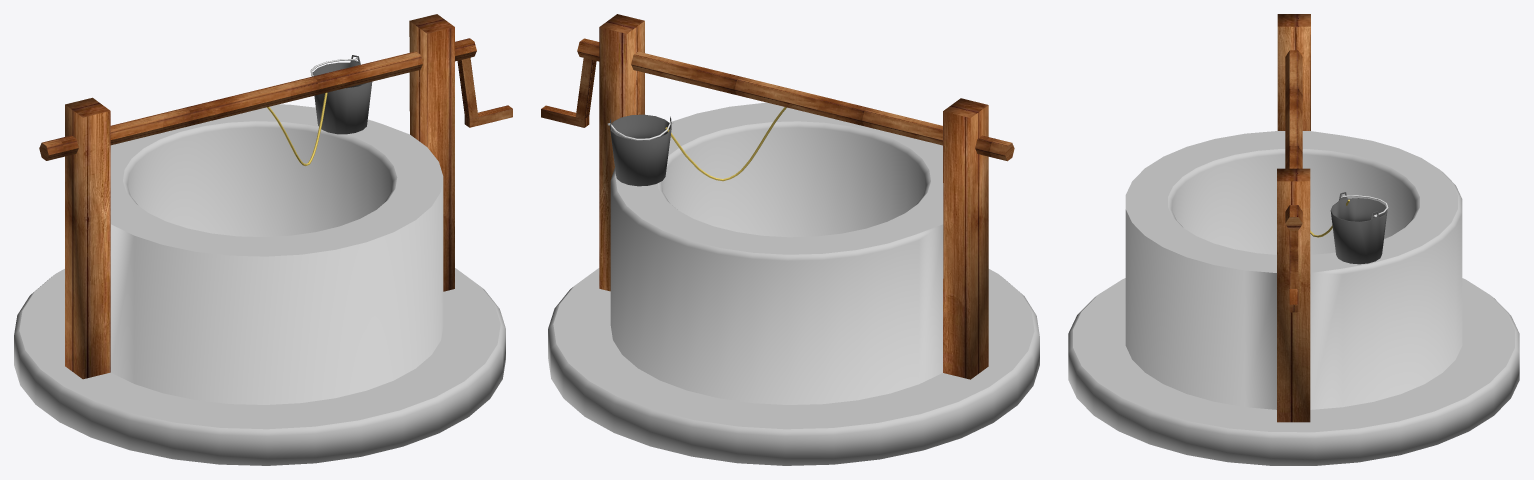
File: cistern.fbx
3 views of the same model, side by side, from view 1: azimuth 30°, elevation 25°; view 2: azimuth 150°, elevation 25°; view 3: azimuth 270°, elevation 25° (orthographic). The views are drawn at different scales.
Parts seen in each view (by area): view 1: Cstern, Cylinder, Cylinder.001; view 2: Cstern, Cylinder, Cylinder.001, Cylinder.003; view 3: Cstern, Cylinder, Cylinder.001.
Boxes of the visible parts, x1=… form: Cstern: x1=14, y1=14, x2=505, y2=465; Cylinder: x1=39, y1=38, x2=512, y2=160; Cylinder.001: x1=312, y1=55, x2=372, y2=134; Cstern: x1=548, y1=14, x2=1039, y2=465; Cylinder: x1=541, y1=38, x2=1014, y2=161; Cylinder.001: x1=609, y1=114, x2=671, y2=186; Cylinder.003: x1=665, y1=107, x2=786, y2=181; Cstern: x1=1068, y1=14, x2=1519, y2=465; Cylinder: x1=1285, y1=50, x2=1302, y2=312; Cylinder.001: x1=1330, y1=192, x2=1387, y2=264.
Bounding box in the file's own units: 565 × 343 × 514.
